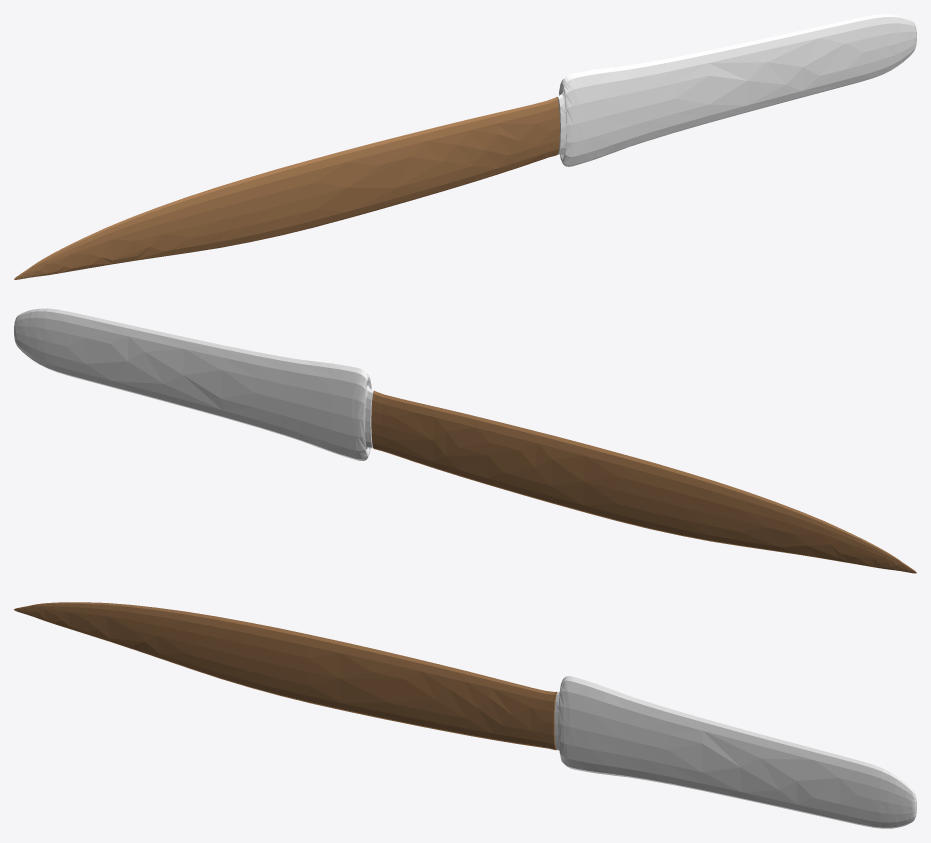
Rendered from tinker.obj.
3 views of the same model, one above another, from view 1: azimuth 30°, elevation 25°; view 2: azimuth 150°, elevation 25°; view 3: azimuth 330°, elevation 25° (orthographic).
Visible parts, largest first — view 1: group_0_11107152, group_0_16777215; view 2: group_0_11107152, group_0_16777215; view 3: group_0_11107152, group_0_16777215.
Boxes of the visible parts, box(x1,y1,x2,y2) form: group_0_11107152: box(14, 97, 559, 279); group_0_16777215: box(557, 14, 916, 166); group_0_11107152: box(371, 390, 916, 573); group_0_16777215: box(14, 308, 373, 460); group_0_11107152: box(14, 602, 557, 750); group_0_16777215: box(554, 676, 916, 828).
Size of the model in its own units: 6.33 by 0.62 by 0.118.
